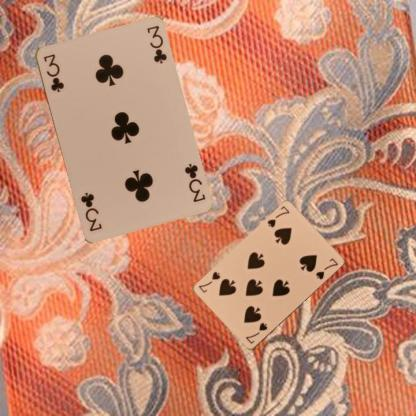3c: (40, 51, 66, 93), (182, 160, 206, 204)
7s: (244, 320, 268, 346), (264, 204, 290, 228)
